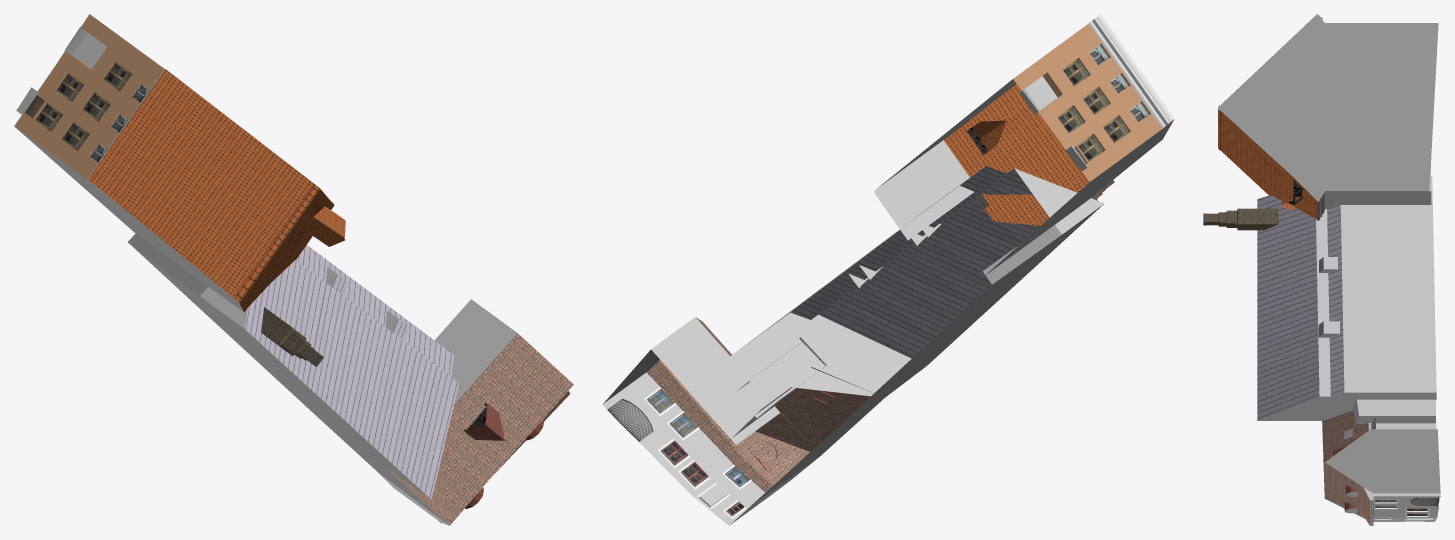
The model's file is Myyrivahe_19.obj.
The picture shows the model from 3 angles, left to right: view 1: azimuth 30°, elevation 25°; view 2: azimuth 150°, elevation 25°; view 3: azimuth 270°, elevation 25°; orthographic projection. The views are drawn at different scales.
Visible parts, largest first — view 1: Myyrivahe_19, xxx; view 2: Myyrivahe_19, xxx; view 3: Myyrivahe_19, xxx.
Boxes of the visible parts, x1,y1,x2,y2 form: Myyrivahe_19: (14, 14, 573, 525); xxx: (15, 127, 447, 524); Myyrivahe_19: (602, 14, 1174, 525); xxx: (605, 79, 1171, 504); Myyrivahe_19: (1203, 83, 1440, 525); xxx: (1218, 14, 1440, 493).
Size of the model in its own units: 36.91 by 37.89 by 20.27.
